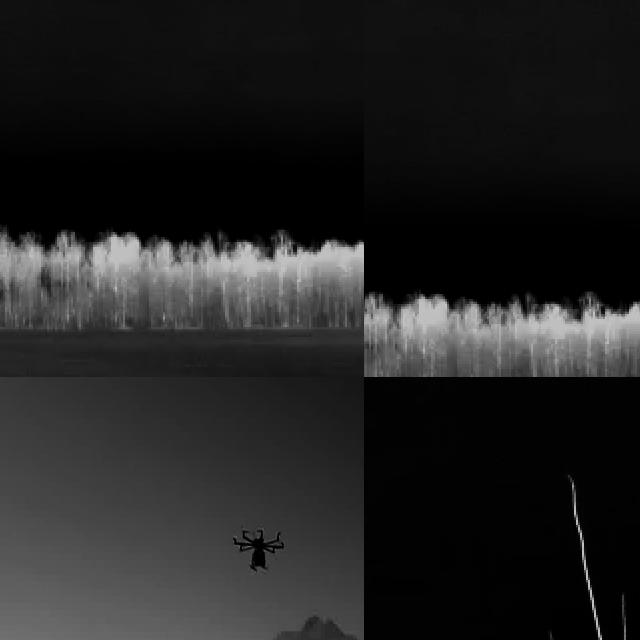drone: (231, 520, 284, 573)
